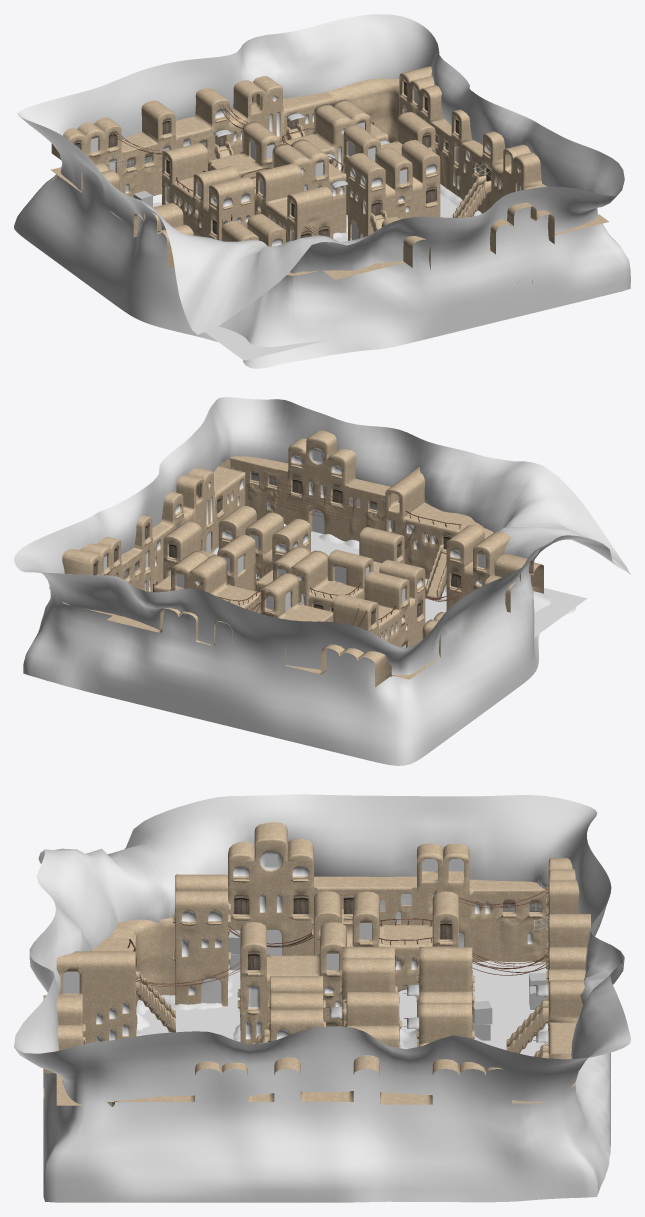
The model's file is adobe_00.fbx.
3 views of the same model, one above another, from view 1: azimuth 30°, elevation 25°; view 2: azimuth 150°, elevation 25°; view 3: azimuth 270°, elevation 25° (orthographic). The views are drawn at different scales.
Visible parts, largest first — view 1: Cliff Mesh, ADOBE BUILDINGS, DOOR, Cracked Soil, Stairs, Metal & Metal Roofs; view 2: Cliff Mesh, ADOBE BUILDINGS, DOOR, Cracked Soil, Metal & Metal Roofs, Stairs; view 3: Cliff Mesh, ADOBE BUILDINGS, Cracked Soil, DOOR, Stairs, Crate.017, CABLES.003, Debree, Metal & Metal Roofs.
Part boxes in pixels (x1,y1,x2,y2): Cliff Mesh: [14, 14, 630, 368]; ADOBE BUILDINGS: [50, 66, 608, 283]; DOOR: [74, 81, 490, 240]; Cracked Soil: [153, 193, 457, 360]; Stairs: [214, 123, 491, 232]; Metal & Metal Roofs: [106, 113, 491, 192]; Cliff Mesh: [14, 397, 630, 765]; ADOBE BUILDINGS: [49, 430, 543, 687]; DOOR: [93, 472, 485, 647]; Cracked Soil: [311, 531, 587, 637]; Metal & Metal Roofs: [176, 481, 461, 622]; Stairs: [425, 544, 446, 600]; Cliff Mesh: [14, 794, 630, 1202]; ADOBE BUILDINGS: [43, 822, 590, 1111]; Cracked Soil: [142, 962, 547, 1056]; DOOR: [63, 858, 541, 1026]; Stairs: [135, 909, 548, 1058]; Crate.017: [228, 930, 547, 1040]; CABLES.003: [135, 887, 548, 986]; Debree: [136, 960, 548, 1048]; Metal & Metal Roofs: [83, 914, 548, 1045].
Bounding box in the file's own units: 64.86 × 18.7 × 64.32.
